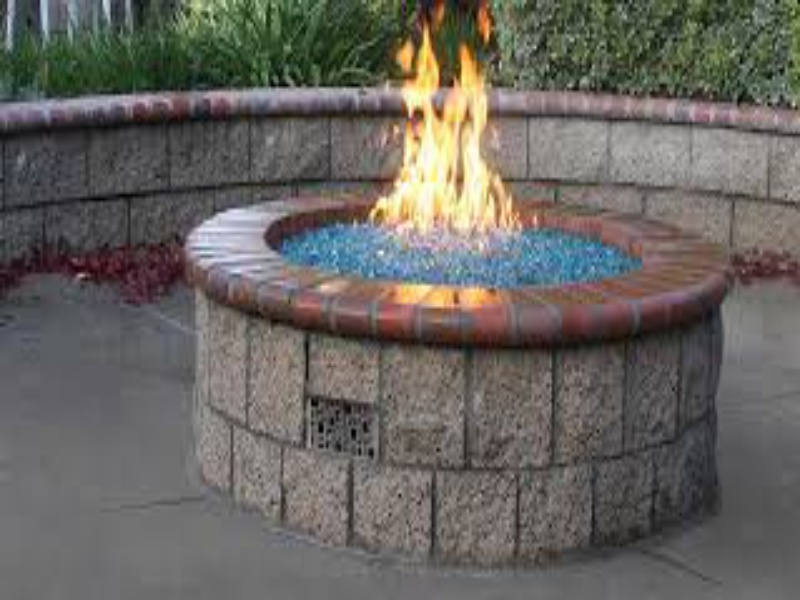fire: (395, 35, 514, 235), (477, 8, 499, 42)
